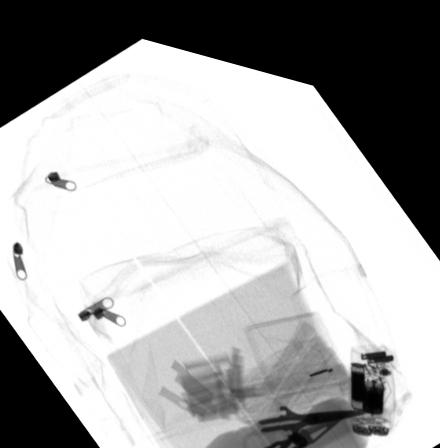Knife: (231, 389, 354, 448)
Scissors: (221, 371, 371, 443)
